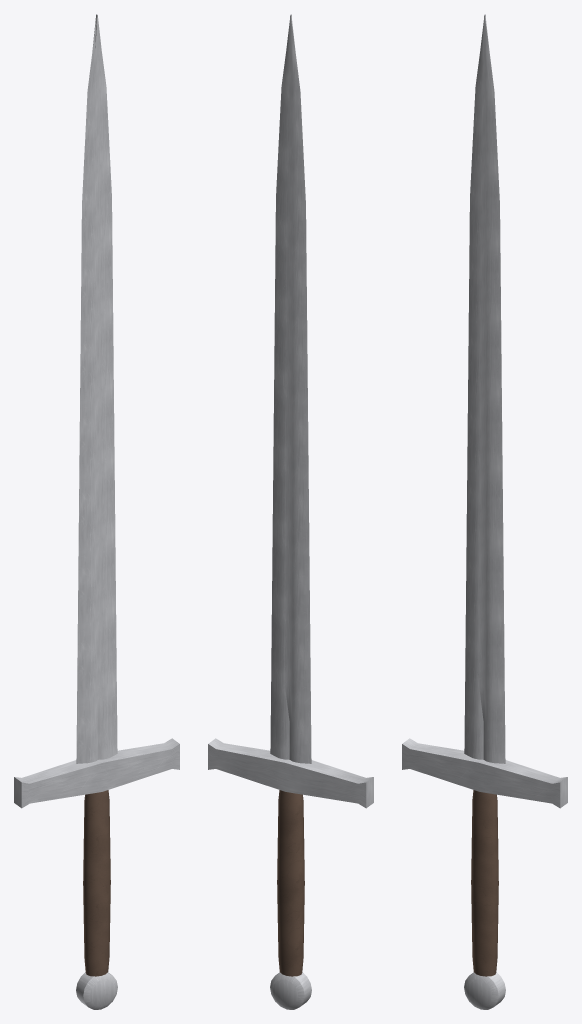
Rendered from longsword.glb.
3 views of the same model, side by side, from view 1: azimuth 30°, elevation 25°; view 2: azimuth 150°, elevation 25°; view 3: azimuth 330°, elevation 25° (orthographic).
Visible parts, largest first — view 1: OUT; view 2: OUT; view 3: OUT.
Boxes of the visible parts, box(x1,y1,x2,y2) form: OUT: box(14, 14, 179, 1009); OUT: box(208, 14, 373, 1009); OUT: box(402, 14, 567, 1009).
Bounding box in the file's own units: 0.2 × 1.2 × 0.0256.
2 materials, 2 textured.
